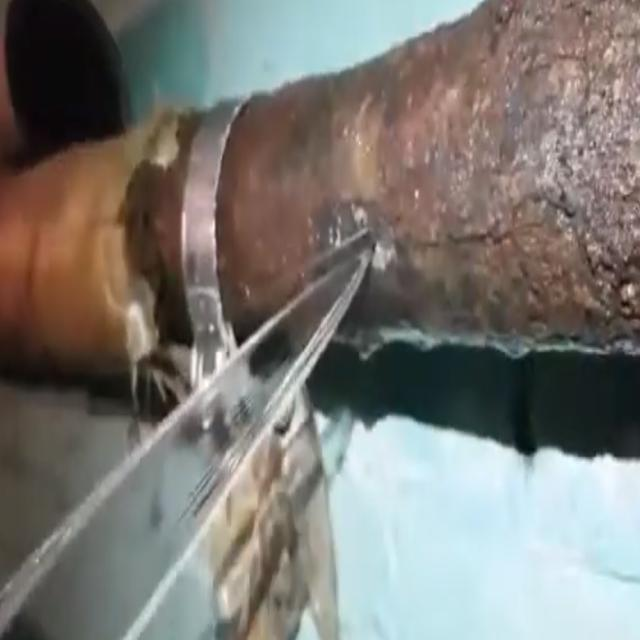leak: (0, 233, 371, 636)
